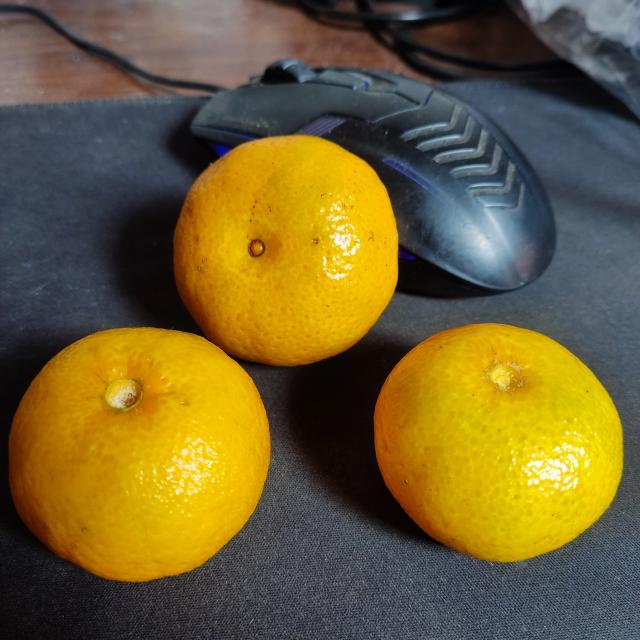orange: (0, 326, 273, 582), (369, 319, 626, 563), (170, 132, 400, 366)
